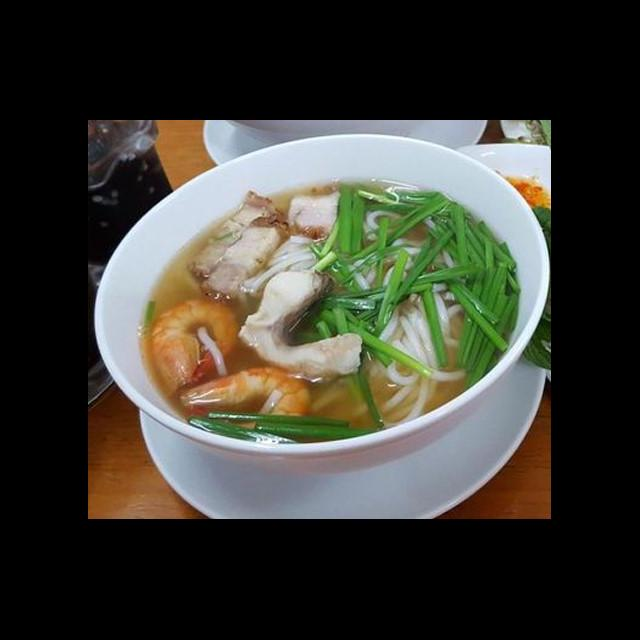bun: (332, 204, 471, 432), (234, 230, 330, 304)
ca: (234, 264, 366, 384)
thit heo quay: (186, 180, 284, 284), (200, 212, 294, 306), (282, 184, 346, 246)
tom: (178, 362, 318, 442), (144, 294, 244, 398)
